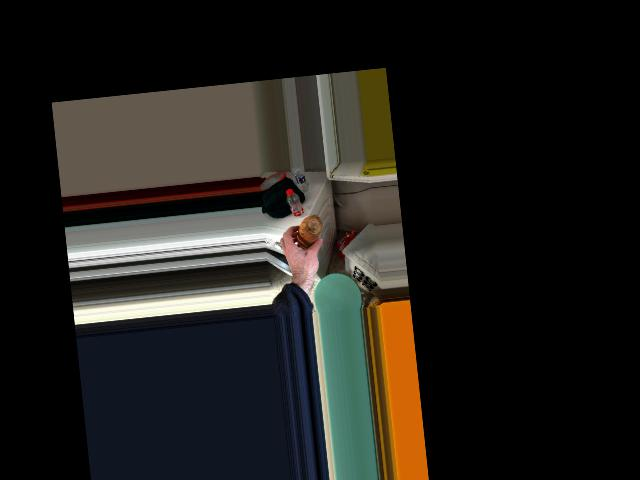sweet_potato: (292, 214, 324, 251)
